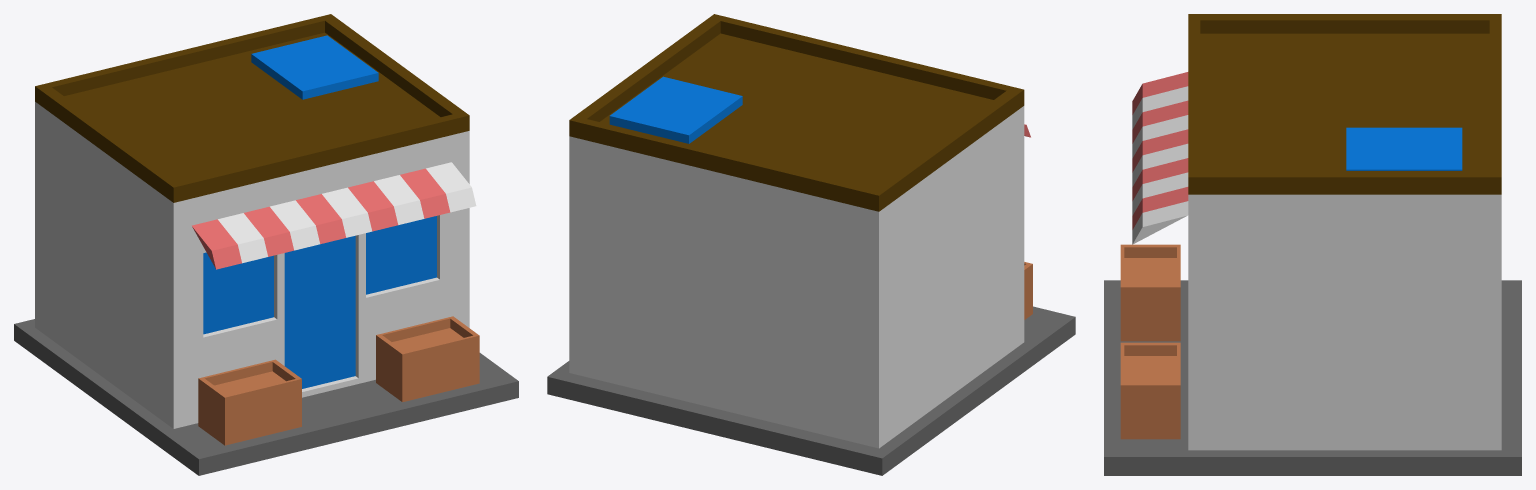
The model's file is Shop.fbx.
3 renders of one model, left to right at view 1: azimuth 30°, elevation 25°; view 2: azimuth 150°, elevation 25°; view 3: azimuth 270°, elevation 25°, orthographic. The views are drawn at different scales.
Visible parts, largest first — view 1: Shop; view 2: Shop; view 3: Shop.
Boxes of the visible parts, <box> form: Shop: <box>14,14,518,475</box>; Shop: <box>547,14,1075,475</box>; Shop: <box>1104,14,1521,475</box>.
Bounding box in the file's own units: 400 × 308 × 400.
